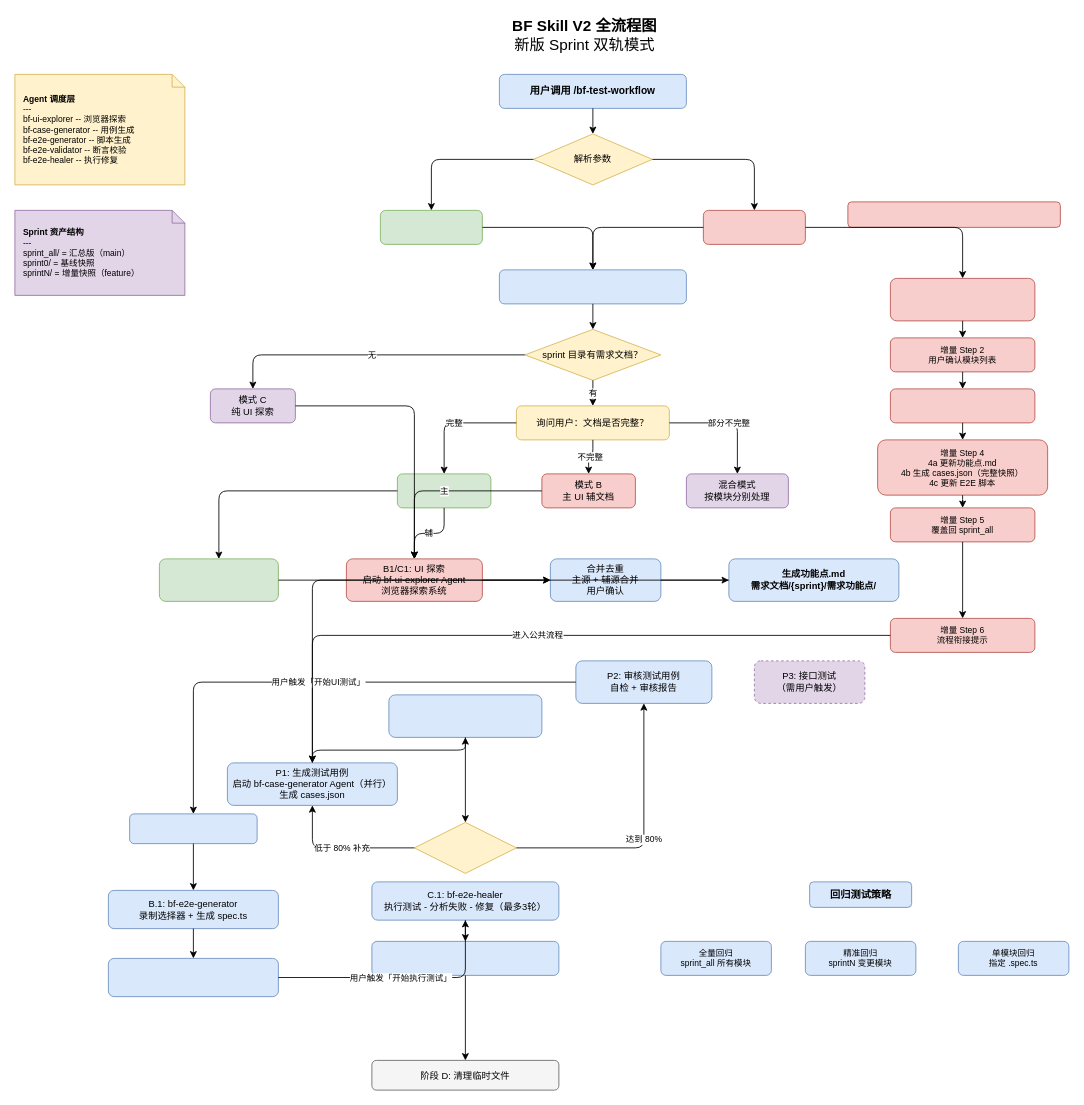
Some shapes in this 1084 by 1105 pixel diagram are drawn without their labels. Each missing label, with the box of its shape:
A1: 文档解析 读取 sprint 目录文档 识别功能模块: (159, 558, 278, 601)
B.0: 检查项目配置: (129, 813, 257, 844)
B.3: bf-e2e-validator 校验断言质量: (108, 958, 278, 997)
C.2: 收集报告 + 截图检查: (371, 941, 559, 975)
P1.3: JSON 转 Excel json_to_excel.py --sprint: (388, 694, 542, 737)
P1.4: 覆盖率检查 是否达到 80% ?: (414, 822, 516, 873)
sprintN 参数 增量模式: (703, 210, 805, 244)
Step 0: 检测项目资源 读取 CLAUDE.md - 扫描 sprint 目录: (499, 269, 686, 304)
增量 Step 1 解析 PRD，识别变更模块 对比 sprint_all 区分已有/新增: (890, 278, 1035, 321)
增量 Step 3 从 sprint_all 复制文件到 sprintN: (890, 388, 1035, 423)
增量模式专属流程（sprintN）: (847, 201, 1060, 227)
无参数 全量模式: (380, 210, 482, 244)
模式 A 主文档辅 UI: (397, 473, 491, 508)
